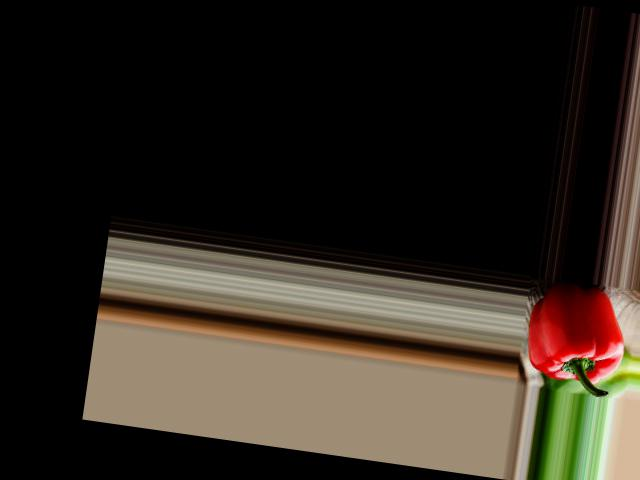bell_pepper: (522, 275, 635, 397)
